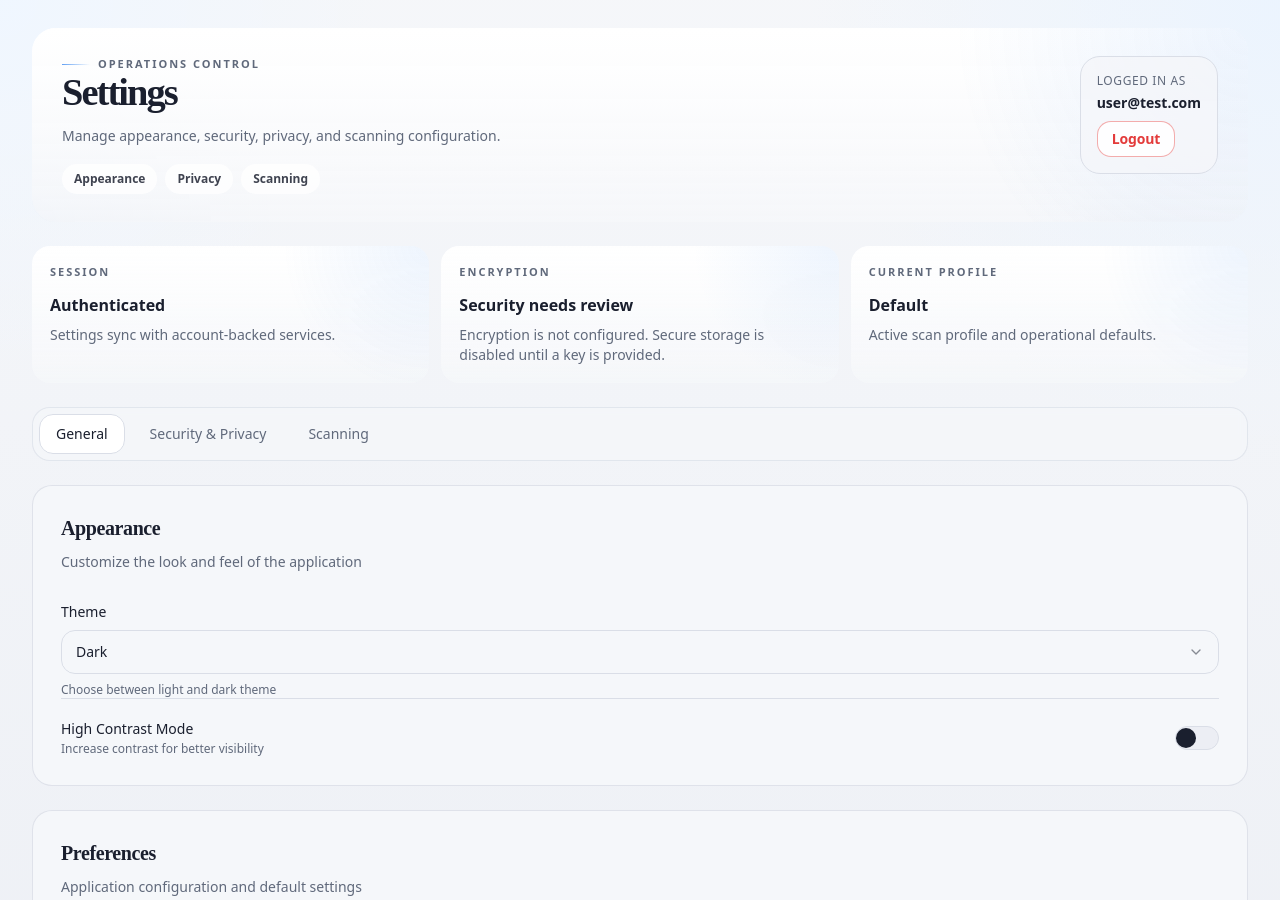
Test case: Settings — External Services (secrets) › shows consent required banner when external services not enabled
What coordinates should you click on to do the following:
click the button "Security & Privacy"
I would click on:
 (208, 434)
Its box is [133,414,283,454].
(page scrolled)
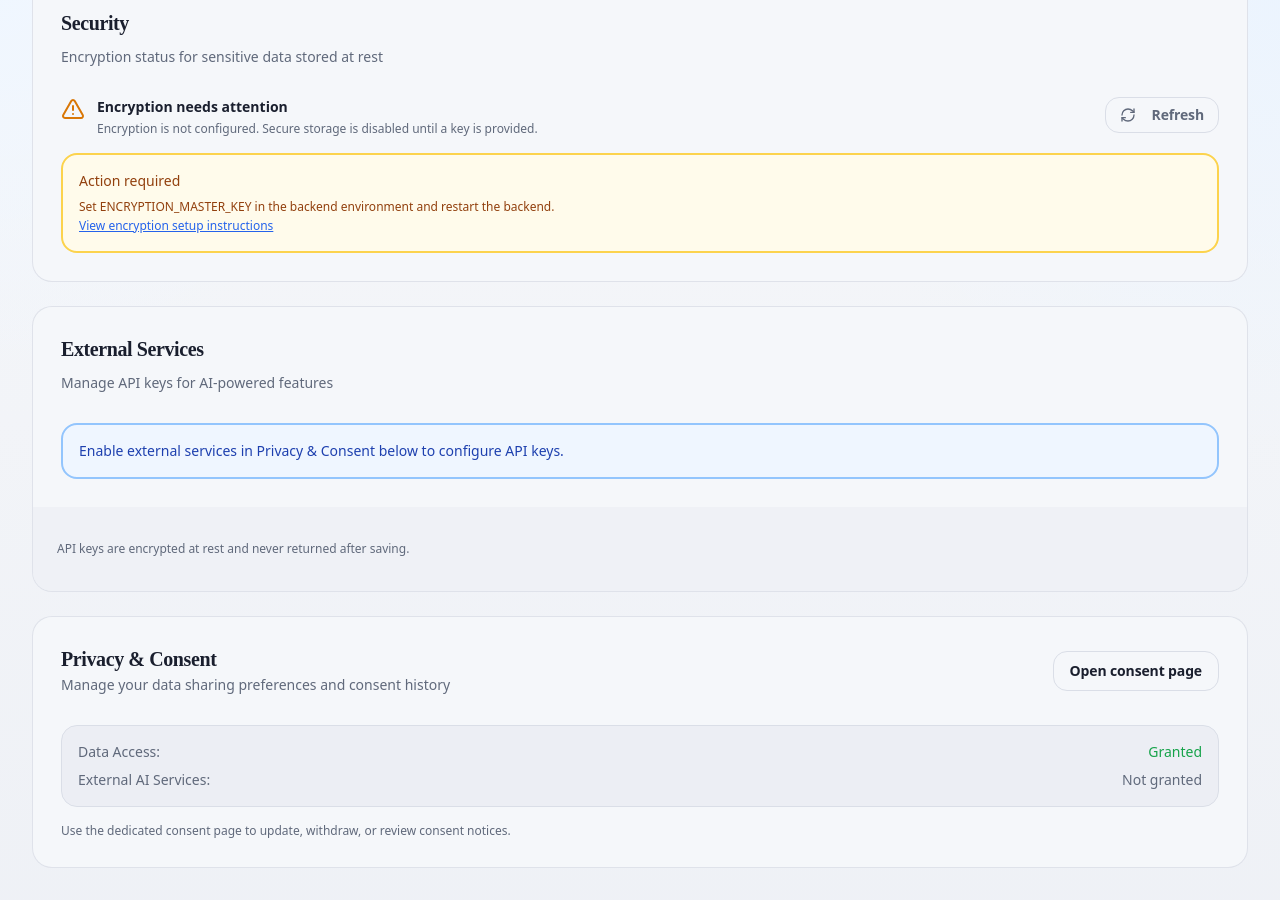
expect the text "Enable external services in Privacy & Consent" is shown: met, box [79,441,564,460]
